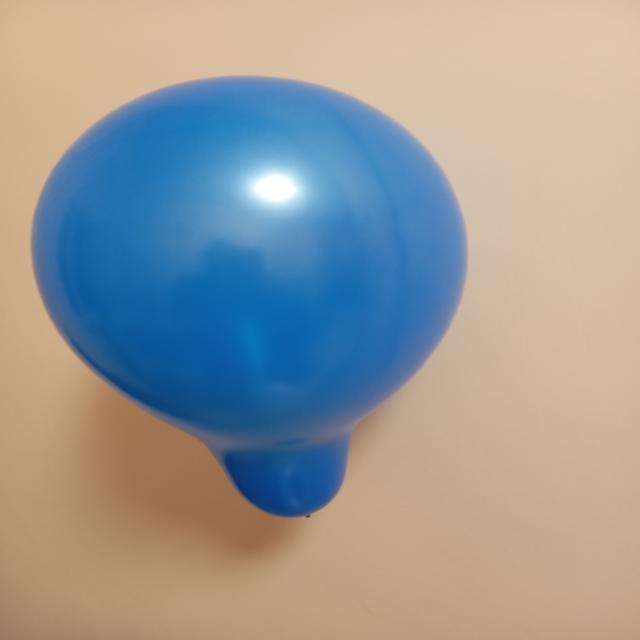balloon: (32, 77, 466, 517)
